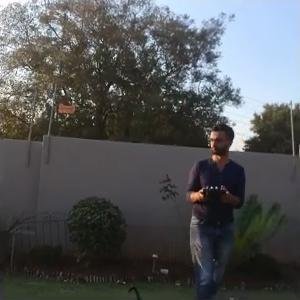follow: (182, 116, 249, 298)
